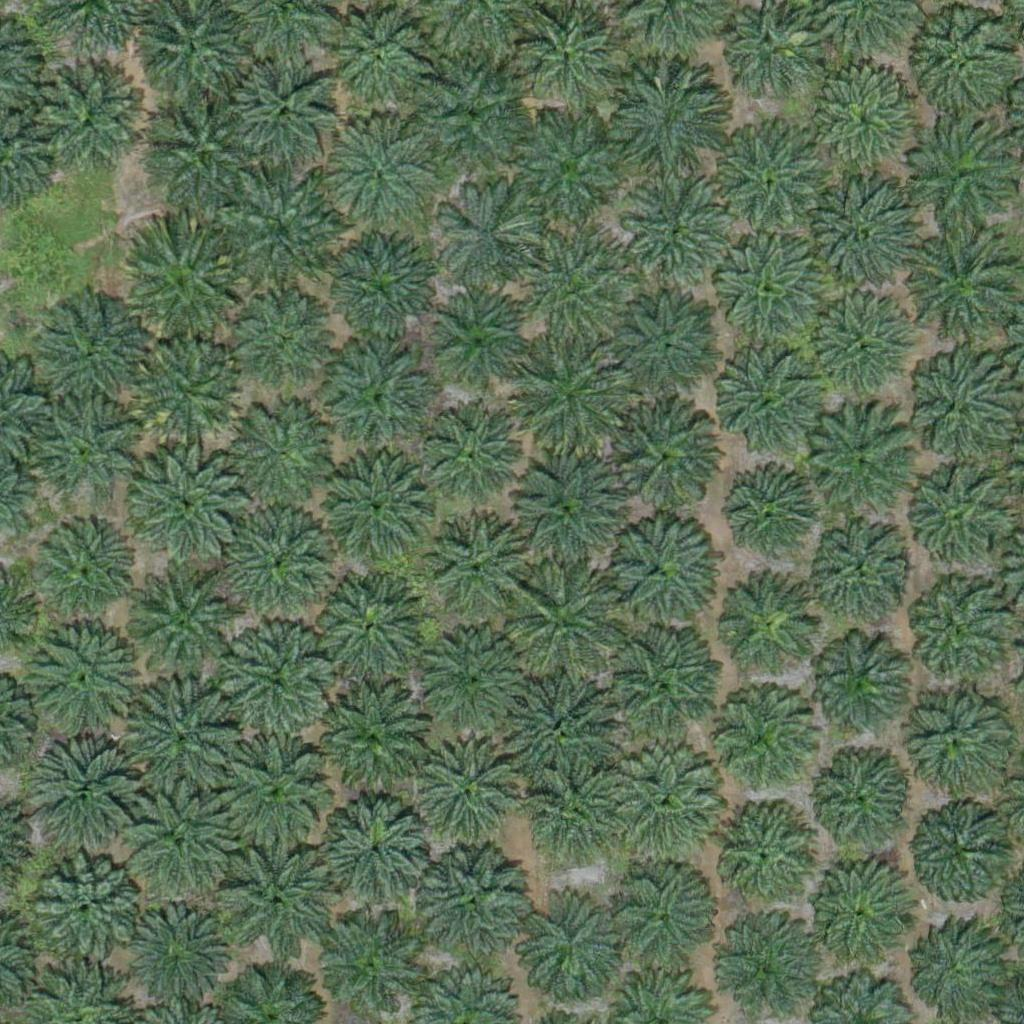Kelapa_Sawit: (598, 745, 723, 871), (119, 225, 244, 350), (712, 235, 825, 349), (606, 290, 719, 404), (899, 679, 1012, 793), (512, 889, 625, 1003), (229, 57, 342, 170), (325, 237, 438, 350), (610, 66, 723, 179), (715, 125, 828, 238), (804, 405, 917, 518), (510, 559, 623, 672), (502, 672, 615, 785), (411, 737, 524, 850), (315, 448, 428, 561), (133, 444, 246, 557), (130, 571, 243, 684), (124, 684, 237, 797), (23, 618, 136, 731), (123, 792, 236, 905), (217, 735, 330, 848), (221, 850, 334, 963), (117, 895, 230, 1008), (415, 66, 527, 180), (510, 117, 622, 231), (624, 176, 736, 290), (606, 398, 718, 512), (601, 511, 713, 625), (515, 337, 627, 451), (24, 740, 136, 854), (606, 856, 718, 970), (418, 844, 530, 958), (33, 63, 145, 176), (144, 93, 256, 206), (226, 180, 338, 293), (514, 237, 626, 350), (802, 181, 914, 294), (808, 64, 920, 177), (907, 120, 1019, 233), (902, 234, 1014, 347), (903, 345, 1015, 458), (901, 455, 1013, 568), (711, 805, 823, 918), (708, 685, 820, 798), (606, 623, 718, 736), (508, 456, 620, 569), (311, 569, 423, 682), (318, 687, 430, 800), (224, 396, 336, 509), (225, 506, 337, 619), (223, 622, 335, 735), (321, 800, 433, 913), (32, 853, 144, 966), (333, 122, 433, 223), (427, 293, 527, 394), (913, 9, 1013, 110), (909, 578, 1009, 679), (720, 352, 820, 453), (420, 404, 520, 505), (424, 511, 524, 612), (422, 628, 522, 729), (328, 346, 428, 447), (231, 289, 331, 390), (137, 339, 237, 440), (47, 301, 147, 402), (35, 399, 135, 500), (31, 520, 131, 621), (908, 920, 1008, 1021), (808, 860, 908, 961), (326, 5, 426, 105), (433, 190, 533, 290), (519, 1, 619, 101), (815, 296, 915, 396), (920, 800, 1020, 900), (815, 524, 915, 624), (809, 633, 909, 733), (810, 752, 910, 852), (724, 466, 824, 566), (725, 576, 825, 676), (531, 776, 606, 851)
